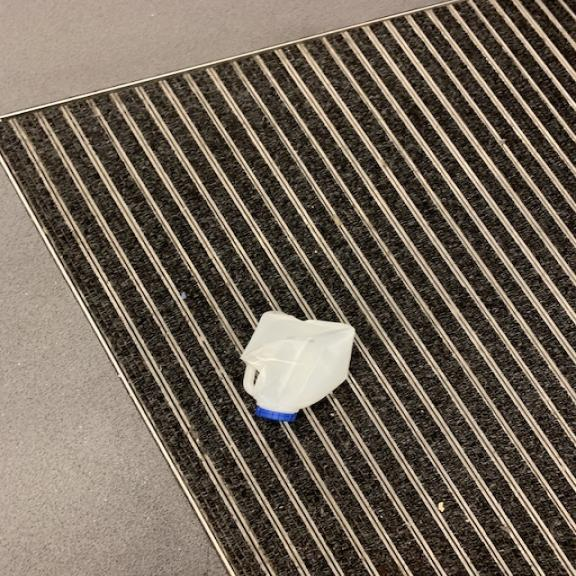Plastik: (237, 308, 358, 428)
